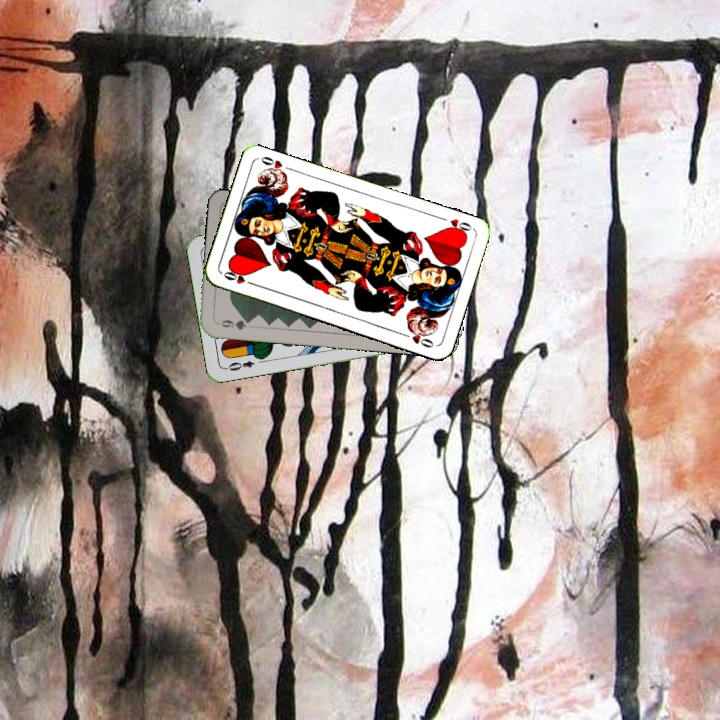EO: (221, 357, 257, 373)
G9: (213, 316, 254, 332)
HO: (436, 213, 475, 238), (219, 267, 258, 288)
